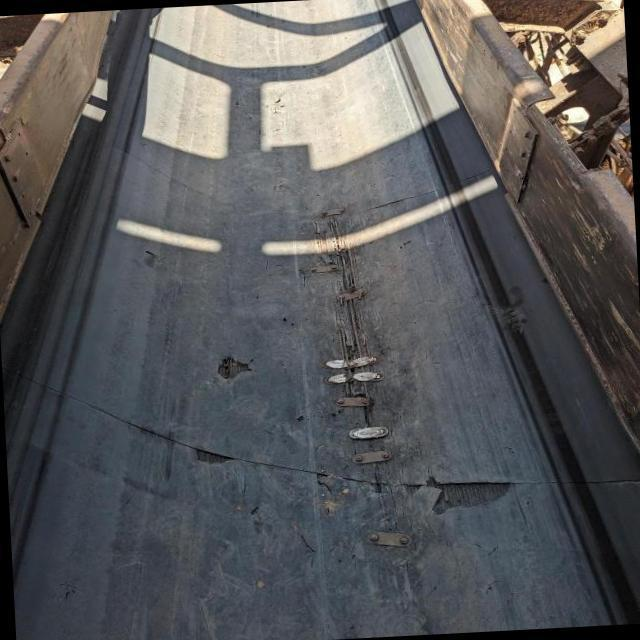Tear: (58, 385, 558, 518), (318, 208, 392, 496), (209, 351, 259, 383)
